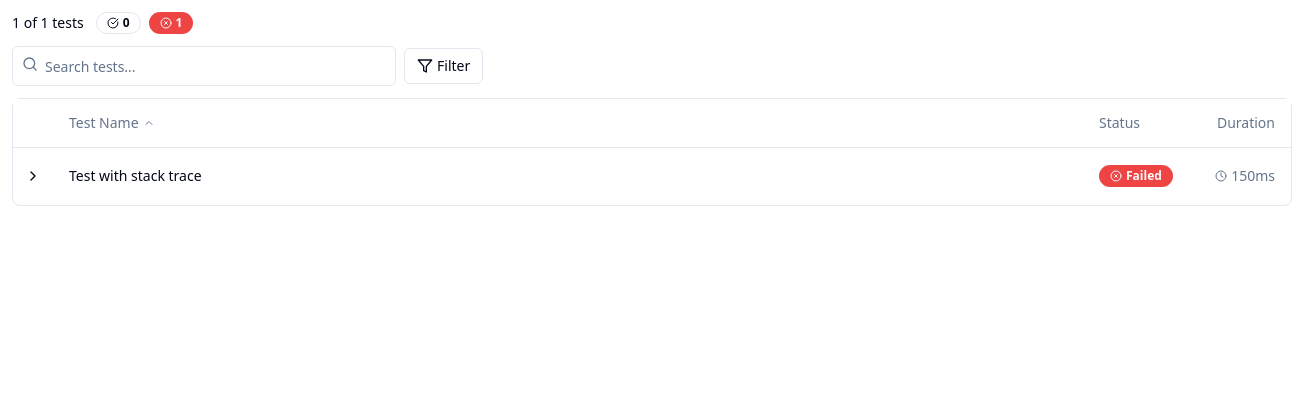
it: TestResultsTable › Expanded Row Content › shows stack trace in error tab
Click the text "Test with stack trace". click: (135, 176)
box: top-left (13, 147), bottom-right (1291, 204)
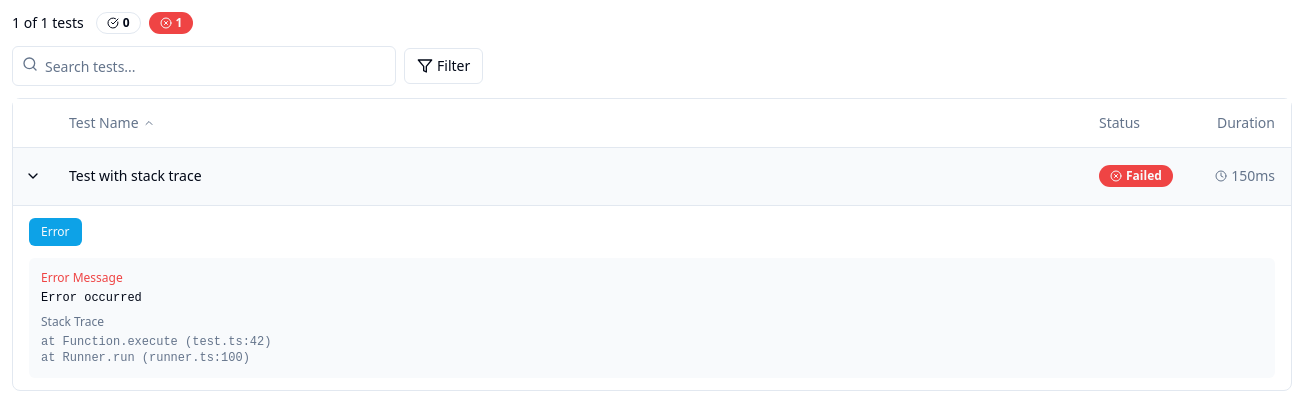
expect the text "Stack Trace" is shown: met, box top-left (41, 312), bottom-right (104, 330)
expect the text "at Function.execute" is shown: met, box top-left (41, 334), bottom-right (271, 364)
